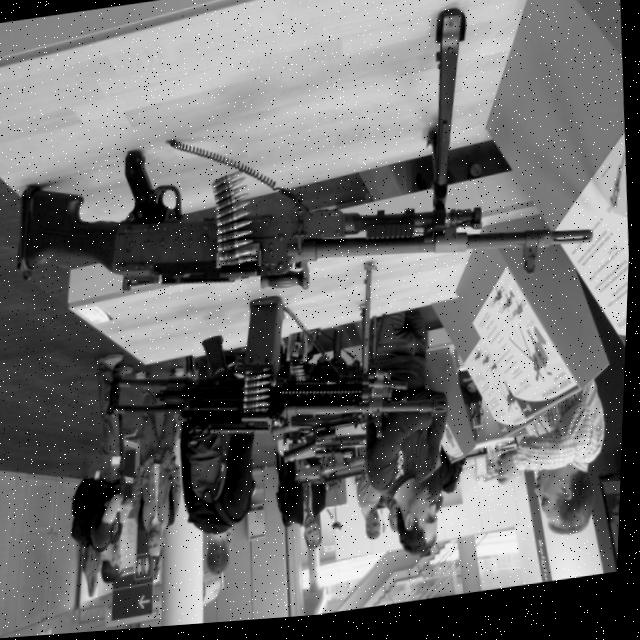firearm: (0, 0, 603, 346), (96, 255, 456, 480), (294, 453, 373, 502), (506, 323, 559, 396)
